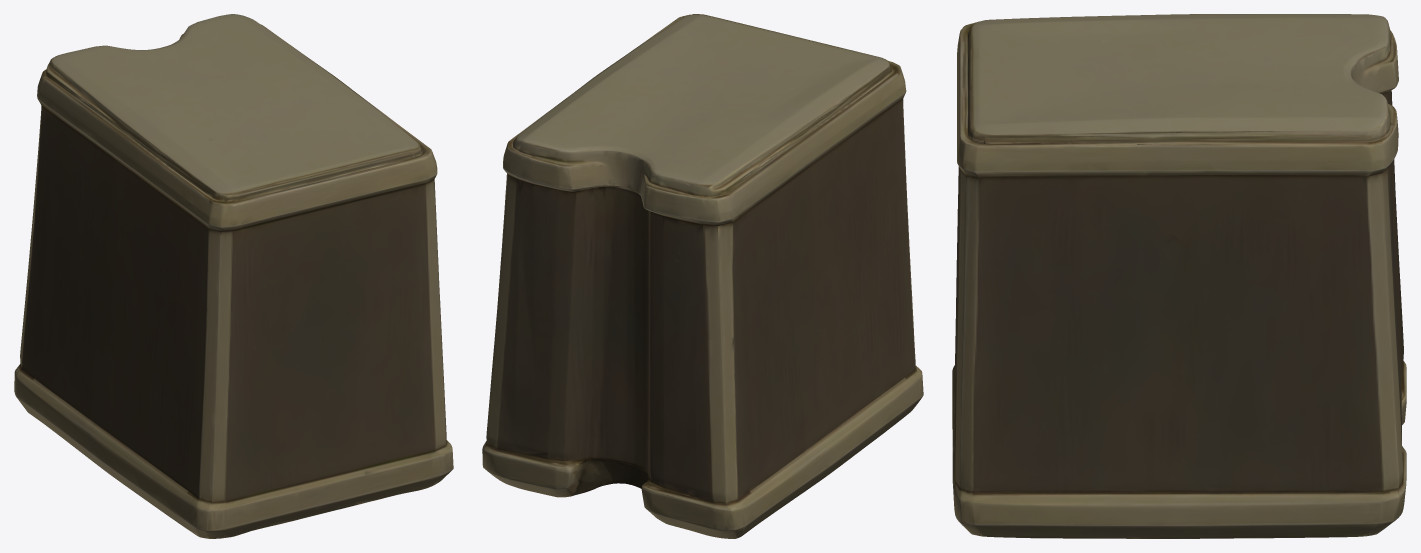
Rendered from SlideSleeve.glb.
3 renders of one model, left to right at view 1: azimuth 30°, elevation 25°; view 2: azimuth 150°, elevation 25°; view 3: azimuth 270°, elevation 25°, orthographic. The views are drawn at different scales.
Visible parts, largest first — view 1: node_0; view 2: node_0; view 3: node_0.
Boxes of the visible parts, x1,y1,x2,y2 form: node_0: (14, 14, 453, 538); node_0: (482, 14, 923, 538); node_0: (952, 14, 1406, 538).
Size of the model in its own units: 0.6159 by 0.7797 by 0.7963.
1 material, 1 textured.
